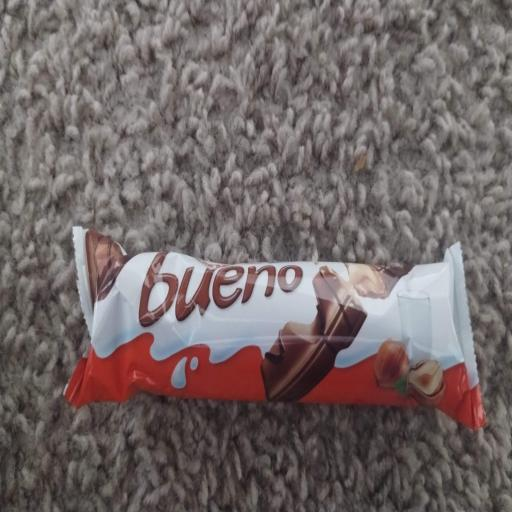chocolate: (65, 228, 484, 428)
